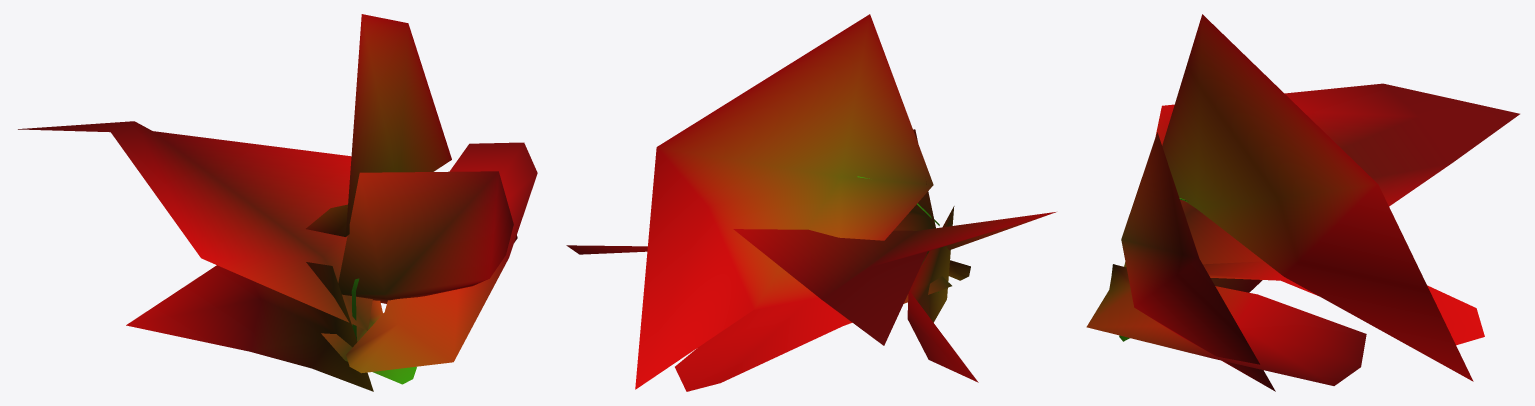
Rendered from Var3_LOD2.fbx.
3 renders of one model, left to right at view 1: azimuth 30°, elevation 25°; view 2: azimuth 150°, elevation 25°; view 3: azimuth 270°, elevation 25°, orthographic. The views are drawn at different scales.
Parts seen in each view (by area): view 1: _b272_Var3_LOD2; view 2: _b272_Var3_LOD2; view 3: _b272_Var3_LOD2.
Part boxes in pixels (x1,y1,x2,y2): _b272_Var3_LOD2: [18, 14, 537, 391]; _b272_Var3_LOD2: [566, 14, 1055, 391]; _b272_Var3_LOD2: [1086, 14, 1519, 391].
Size of the model in its own units: 101 by 76.22 by 92.62.
